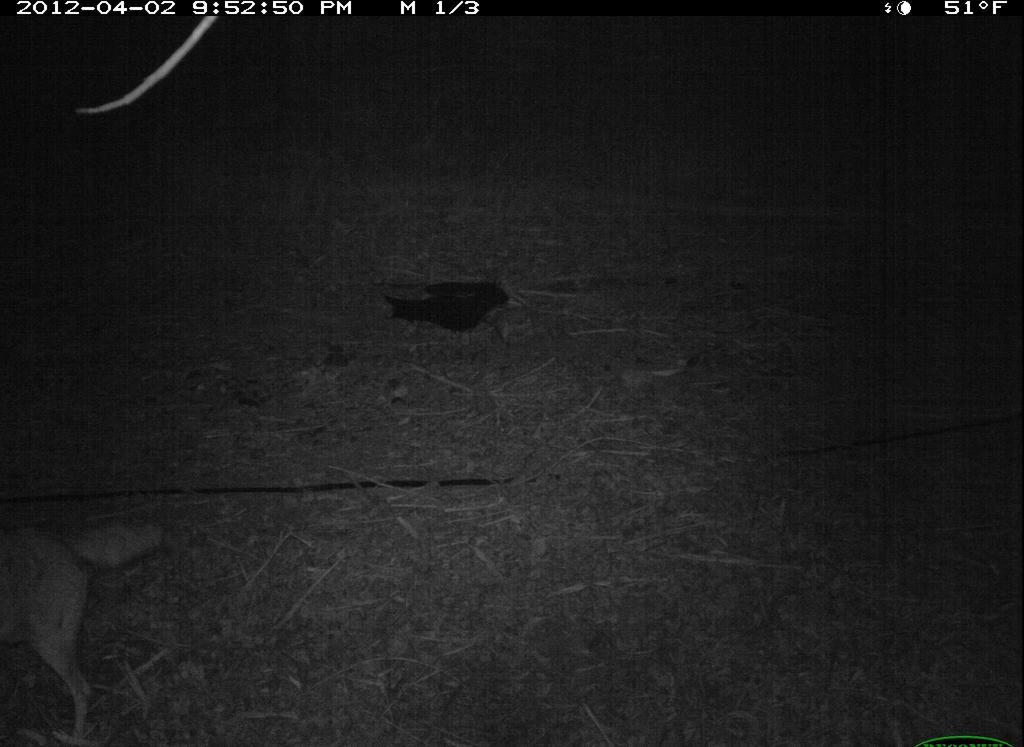coyote: (7, 473, 143, 747)
